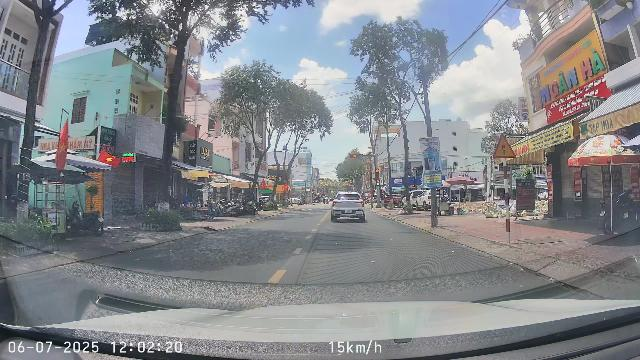209-giao-nhau-co-tin-hieu-den: (493, 134, 516, 159)
